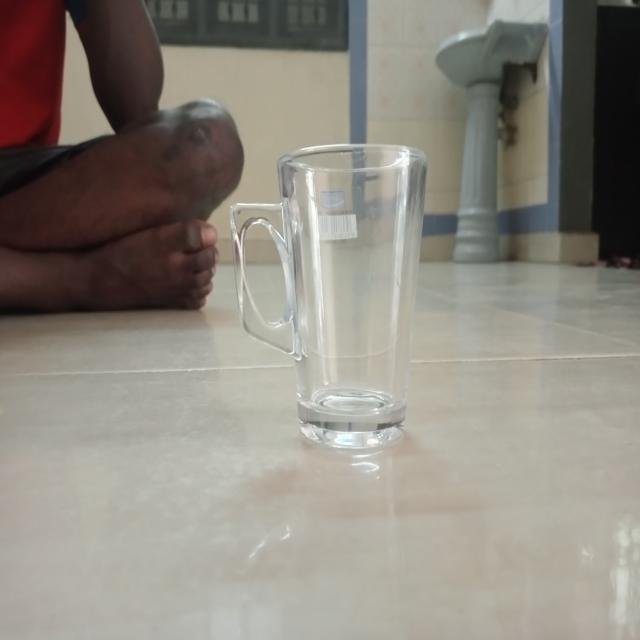glass-VX4N: (230, 137, 425, 461)
